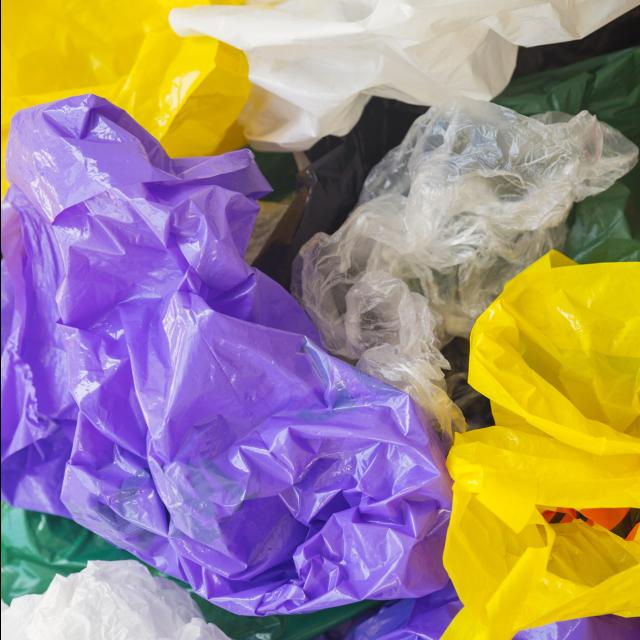plastik: (0, 96, 451, 615), (291, 98, 638, 447), (438, 252, 640, 640), (169, 0, 640, 151), (0, 0, 249, 203), (493, 45, 640, 264), (0, 561, 232, 640), (0, 499, 136, 602), (195, 597, 379, 640), (342, 582, 461, 640), (511, 615, 640, 640)
